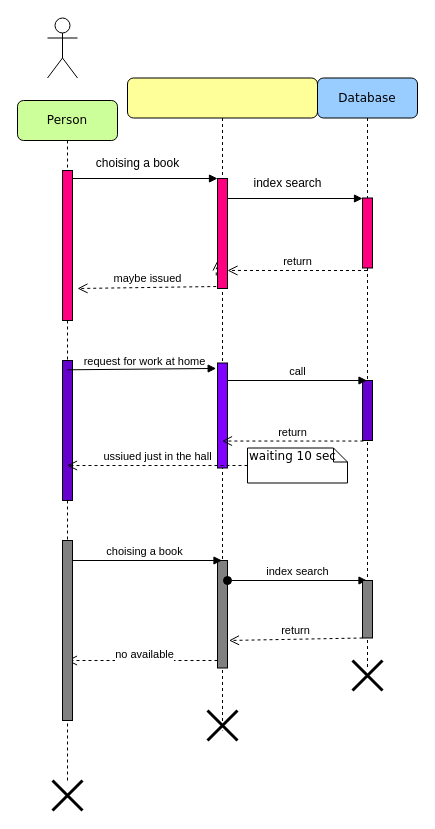
Some shapes in this 435 by 829 pixel diagram are drawn without their labels. Here are the shapes that lost their labels. From the top down, the box of each, then its label:
(46, 17, 78, 78): Actor
(126, 77, 318, 730): Automate
